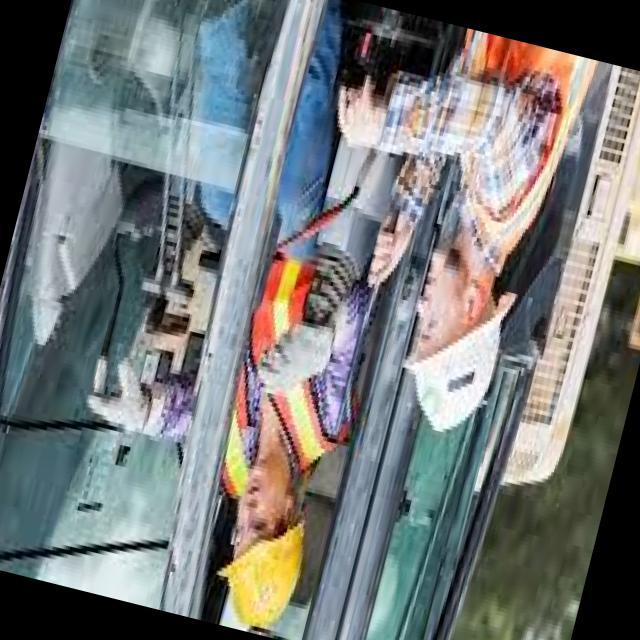gloved: (74, 347, 164, 445), (250, 308, 336, 408)
not-gloved: (357, 201, 418, 306), (322, 67, 393, 156)
